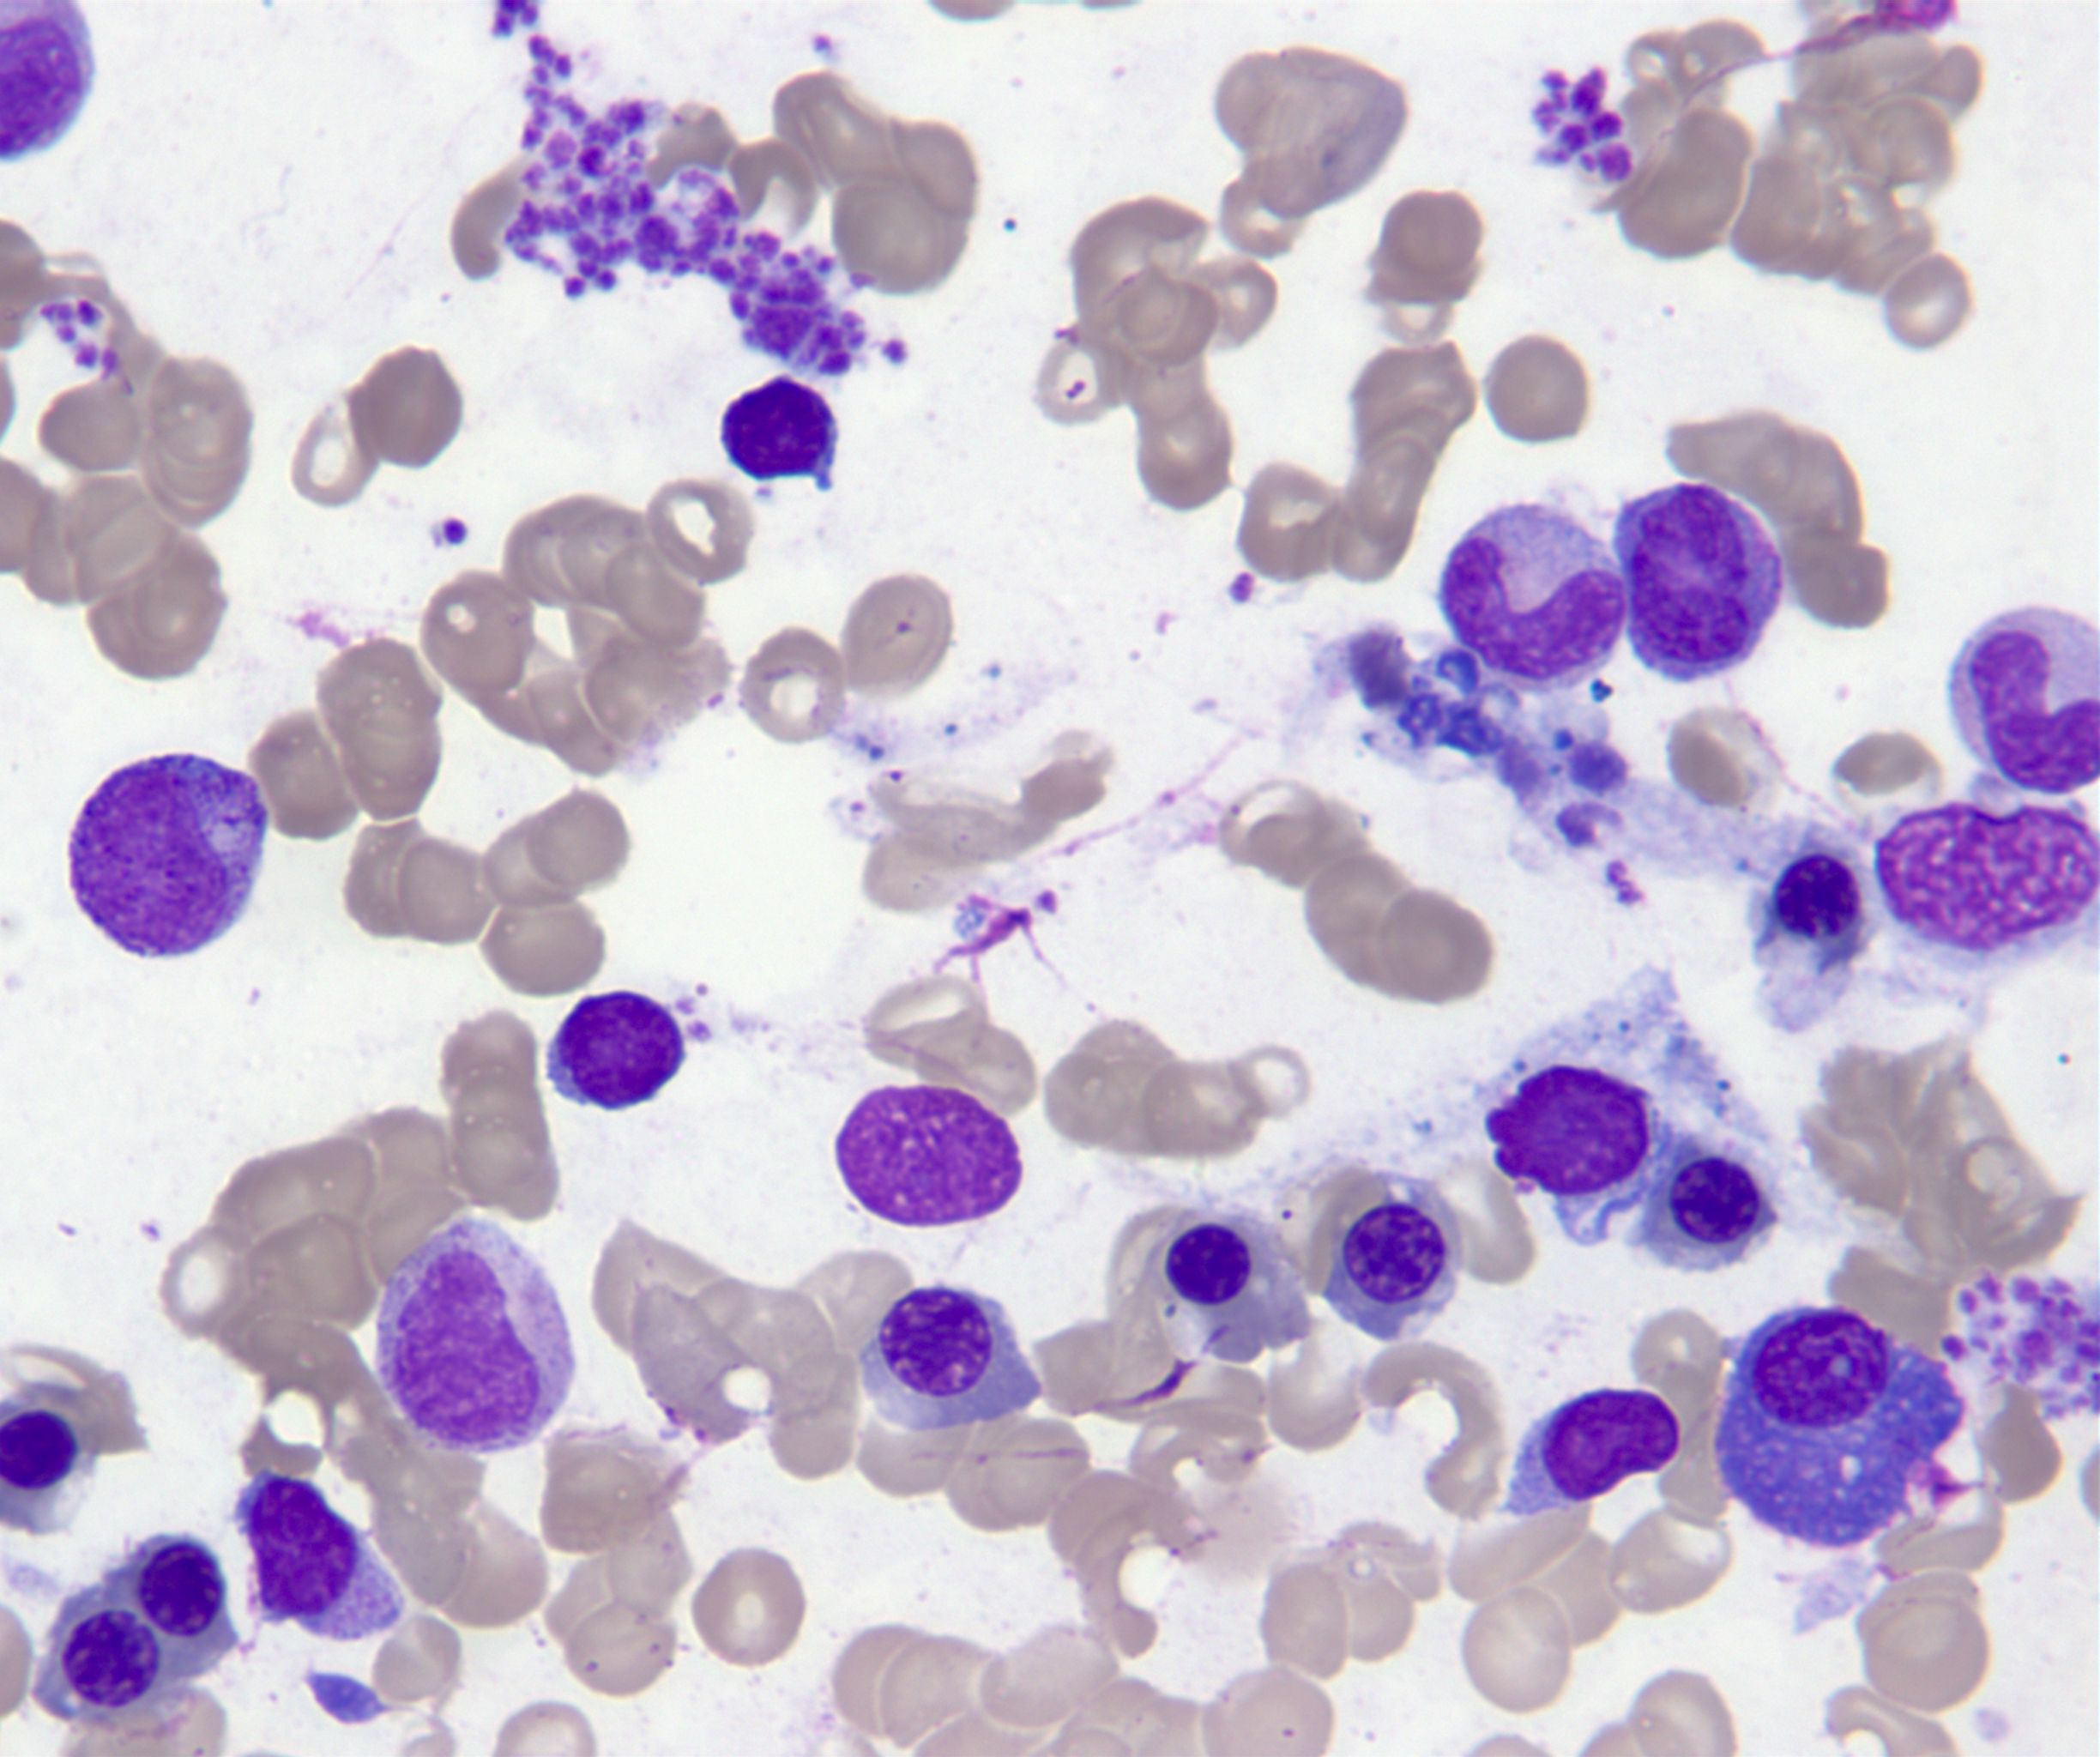24: (1749, 820, 1882, 1031), (858, 1279, 1041, 1429), (1324, 1171, 1463, 1345), (1162, 1206, 1310, 1364), (1626, 1134, 1779, 1272), (31, 1583, 174, 1729), (105, 1532, 237, 1685), (0, 1371, 101, 1537)
3: (373, 1216, 576, 1455), (70, 754, 267, 958)
32: (228, 1467, 405, 1642), (1497, 1385, 1680, 1513), (548, 991, 684, 1111), (719, 375, 837, 489)
4: (1437, 506, 1627, 696), (1952, 605, 2100, 796)
42: (1613, 485, 1783, 682)
52: (1715, 1305, 1964, 1549)
x: (1460, 963, 1774, 1244), (1873, 801, 2100, 972), (835, 1084, 1024, 1228), (3, 0, 96, 164)
